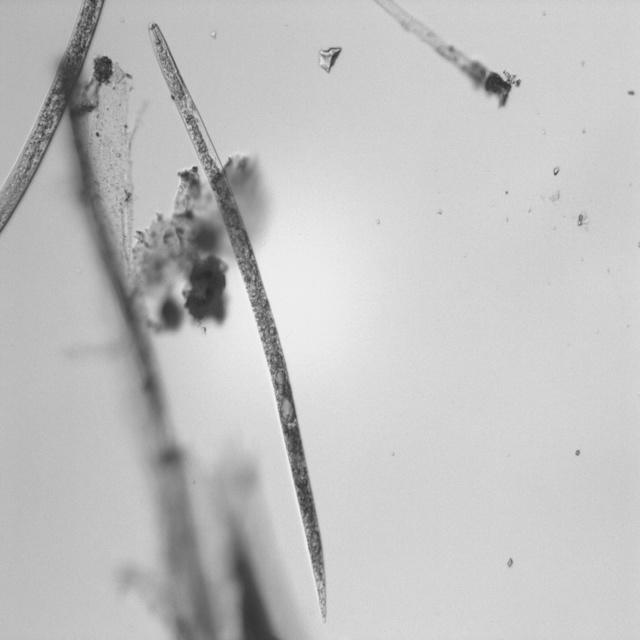Radopholus: (138, 16, 338, 628)
